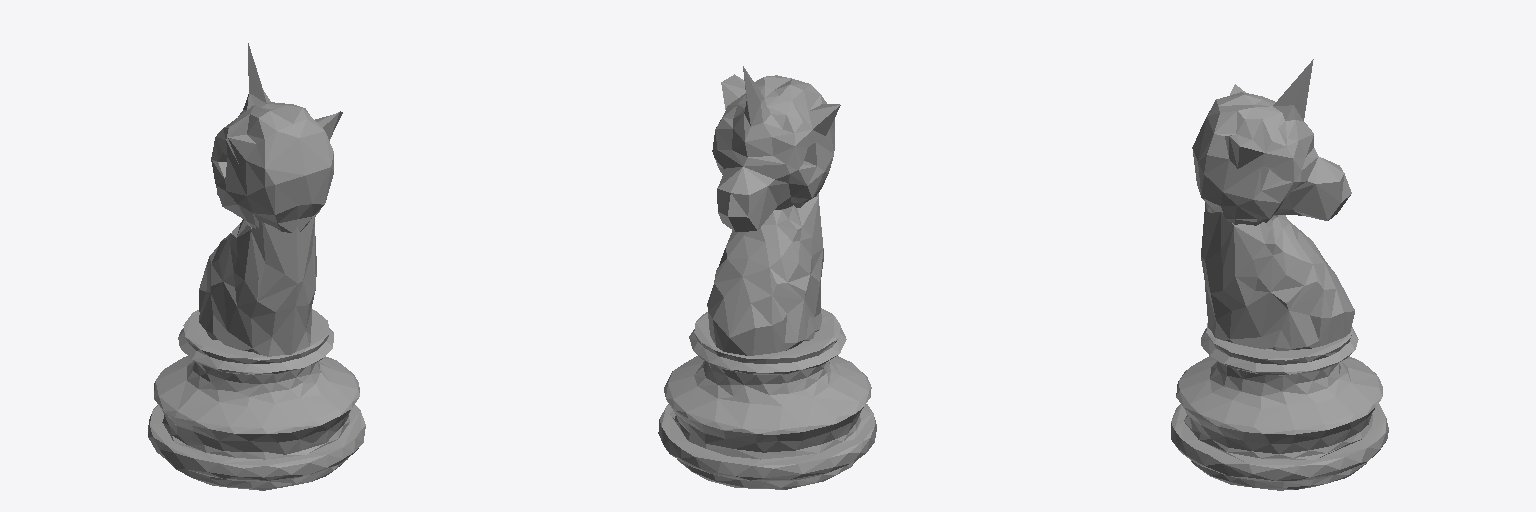
The model's file is Knight.obj.
3 views of the same model, side by side, from view 1: azimuth 30°, elevation 25°; view 2: azimuth 150°, elevation 25°; view 3: azimuth 270°, elevation 25° (orthographic).
Visible parts, largest first — view 1: Knight_Sphere.001; view 2: Knight_Sphere.001; view 3: Knight_Sphere.001.
Part boxes in pixels (left/top/right/bottom): Knight_Sphere.001: left=148, top=43, right=365, bottom=490; Knight_Sphere.001: left=658, top=66, right=876, bottom=489; Knight_Sphere.001: left=1171, top=59, right=1388, bottom=490.
Bounding box in the file's own units: 3.3 × 6.73 × 3.3.